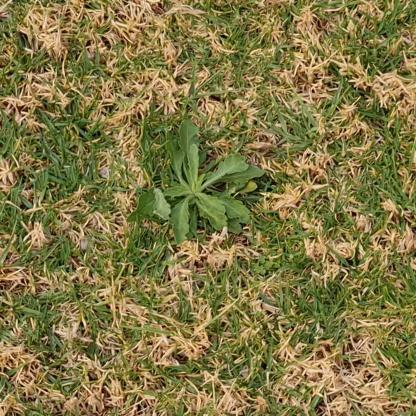Weeds: (123, 116, 266, 245)
